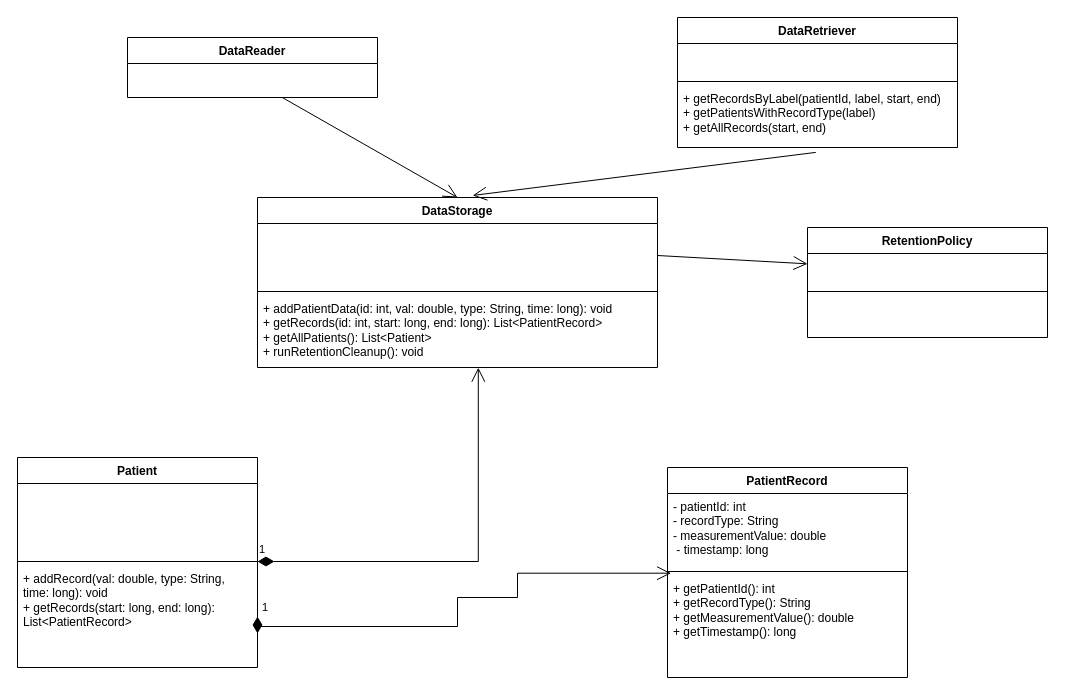
Some shapes in this 1065 by 698 pixel diagram are drawn without their labels. The shapes that lost their labels are listed below. From the top down, each one's centre as x and y in pixels, then its label:
At (252,80): "+ readData(DataStorage): void".
At (817,60): "- dataStorage: DataStorage".
At (457,255): "- patientMap: Map<Integer, Patient> - retentionPolicy: RetentionPolicy".
At (927,270): "- maxAgeMillis: long".
At (927,316): "+ removeOldData(storage: DataStorage): void".
At (137,520): "- patientId: int - patientRecords: List<PatientRecord>".
